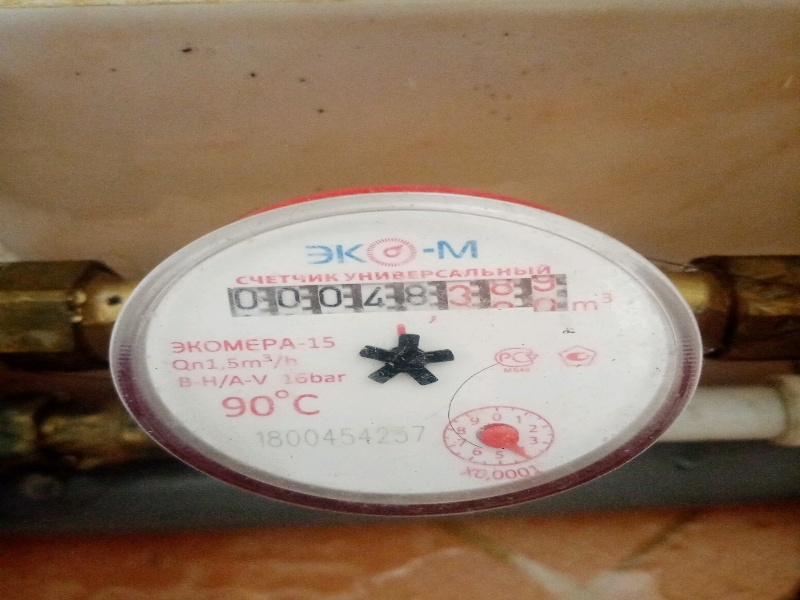meter: (228, 276, 570, 318)
